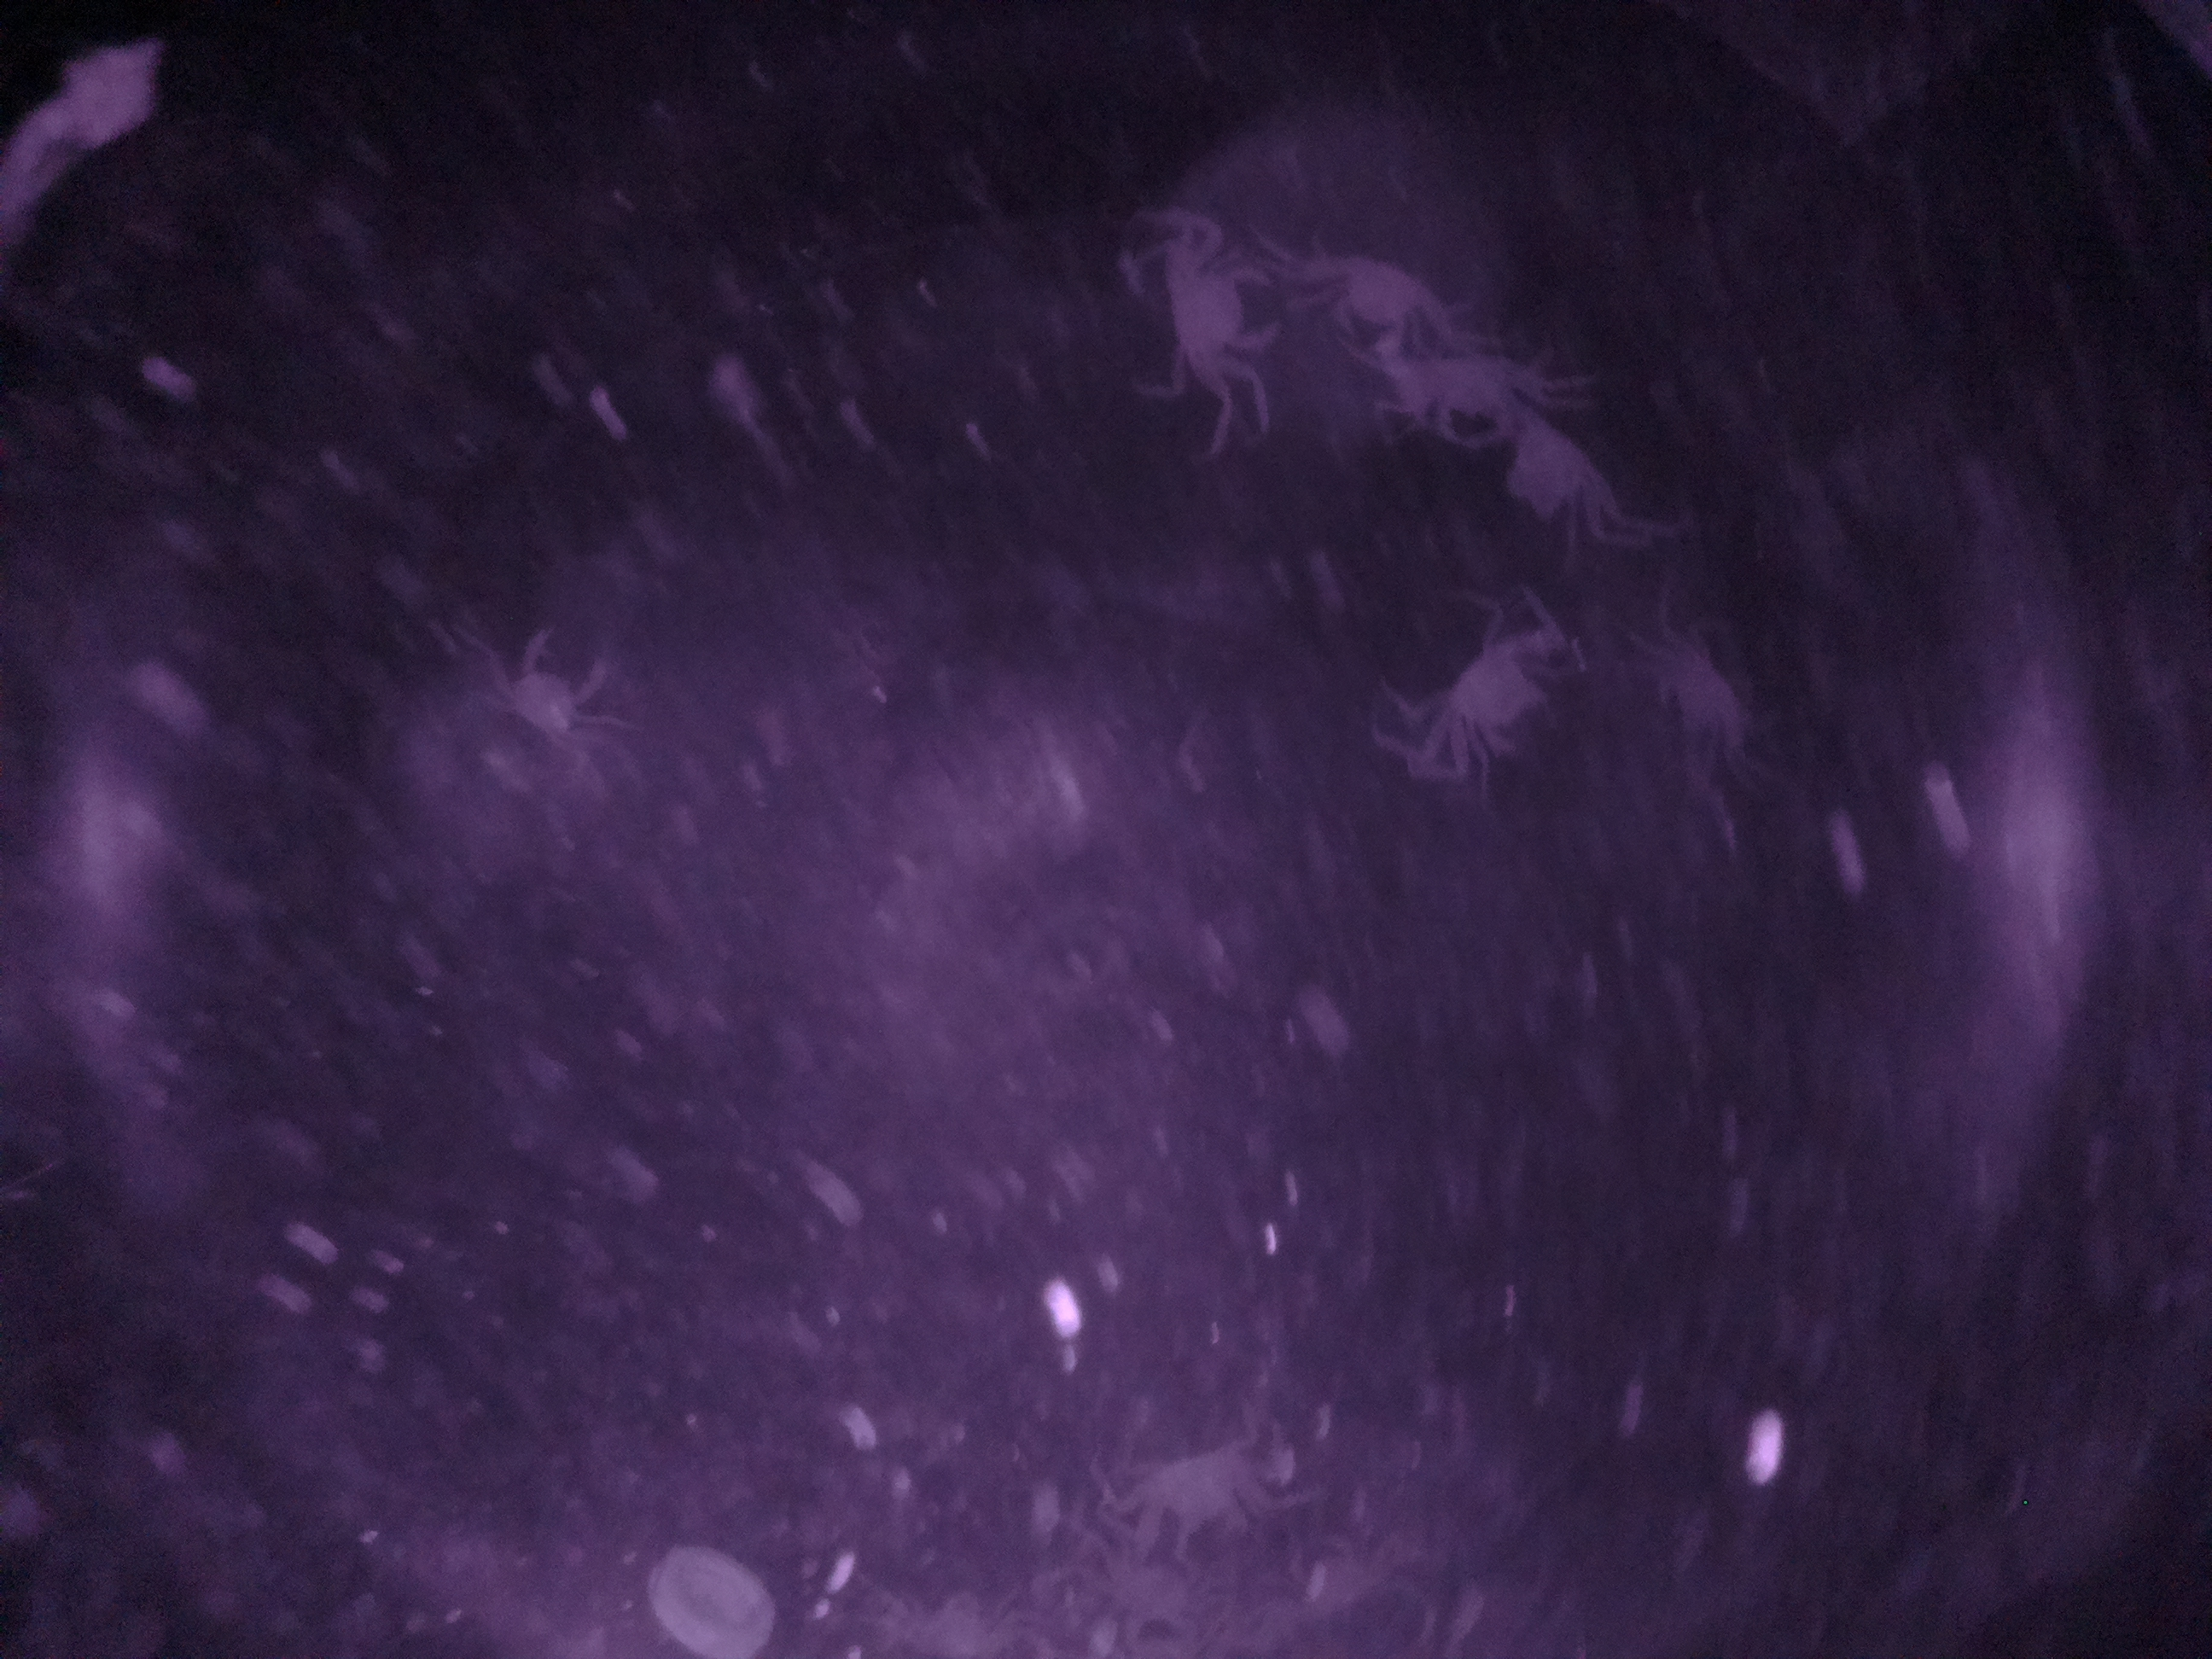Crab: (1381, 577, 1581, 796)
